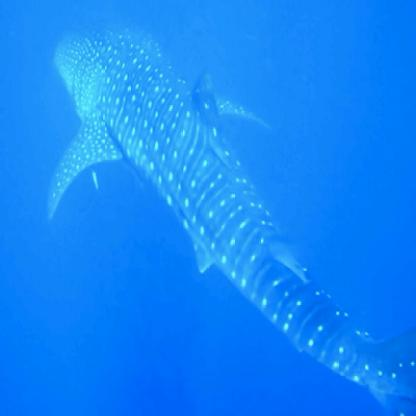shark: (42, 19, 416, 416)
